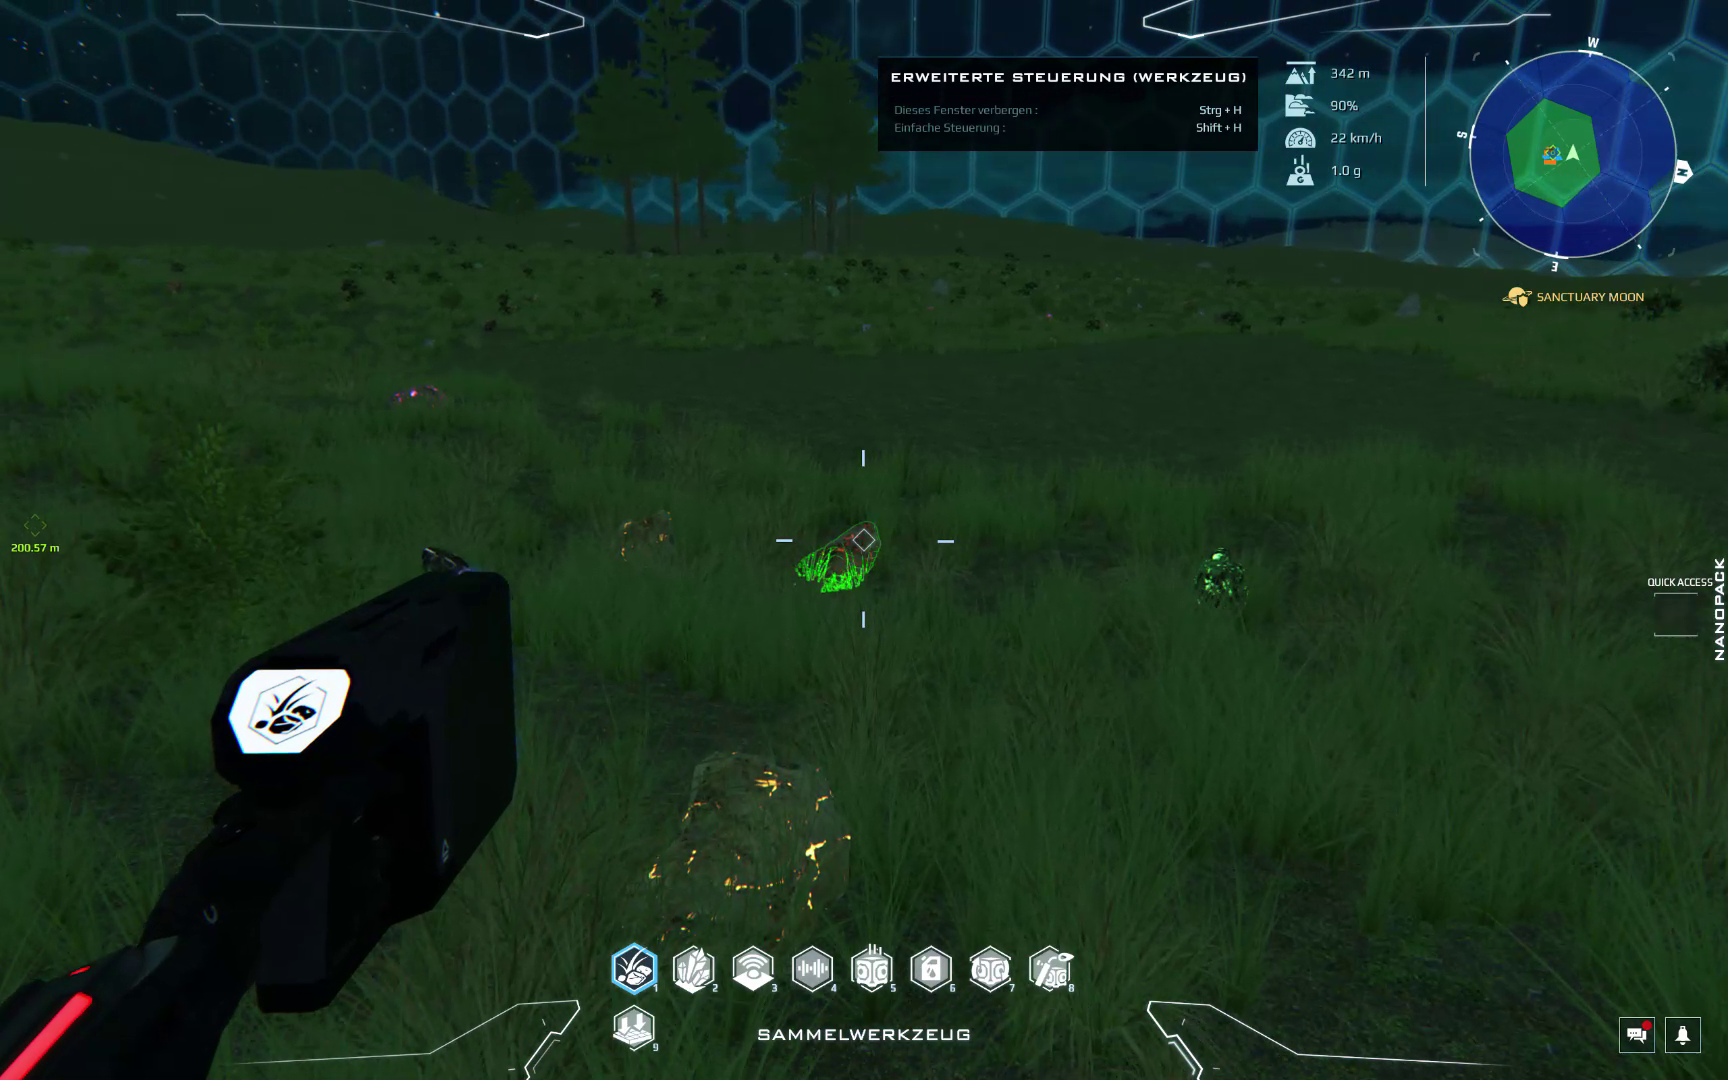Ore: (626, 747, 853, 944), (794, 523, 881, 594), (603, 509, 677, 569), (1196, 549, 1245, 608), (386, 382, 449, 411)
